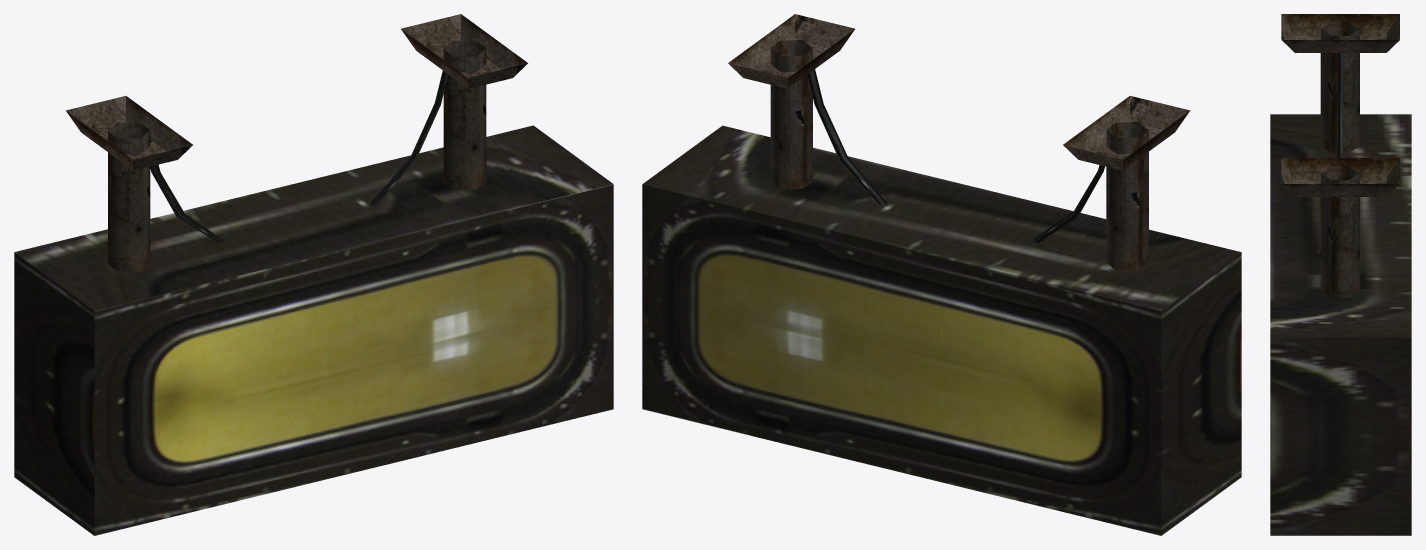
Rendered from TrainTimer.fbx.
The picture shows the model from 3 angles, left to right: view 1: azimuth 30°, elevation 25°; view 2: azimuth 150°, elevation 25°; view 3: azimuth 270°, elevation 25°; orthographic projection. The views are drawn at different scales.
Parts seen in each view (by area): view 1: TrainTimer; view 2: TrainTimer; view 3: TrainTimer.
Boxes of the visible parts, box(x1,y1,x2,y2) form: TrainTimer: box(14, 14, 613, 535); TrainTimer: box(642, 14, 1241, 535); TrainTimer: box(1270, 14, 1411, 535).
Bounding box in the file's own units: 157 × 104 × 42.01.
